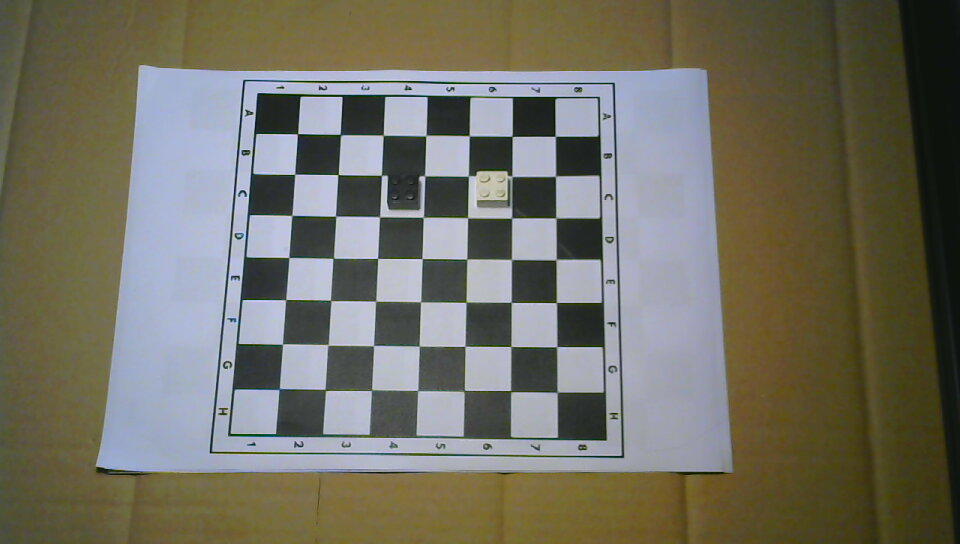bp: (386, 172, 421, 210)
wp: (475, 168, 510, 210)
